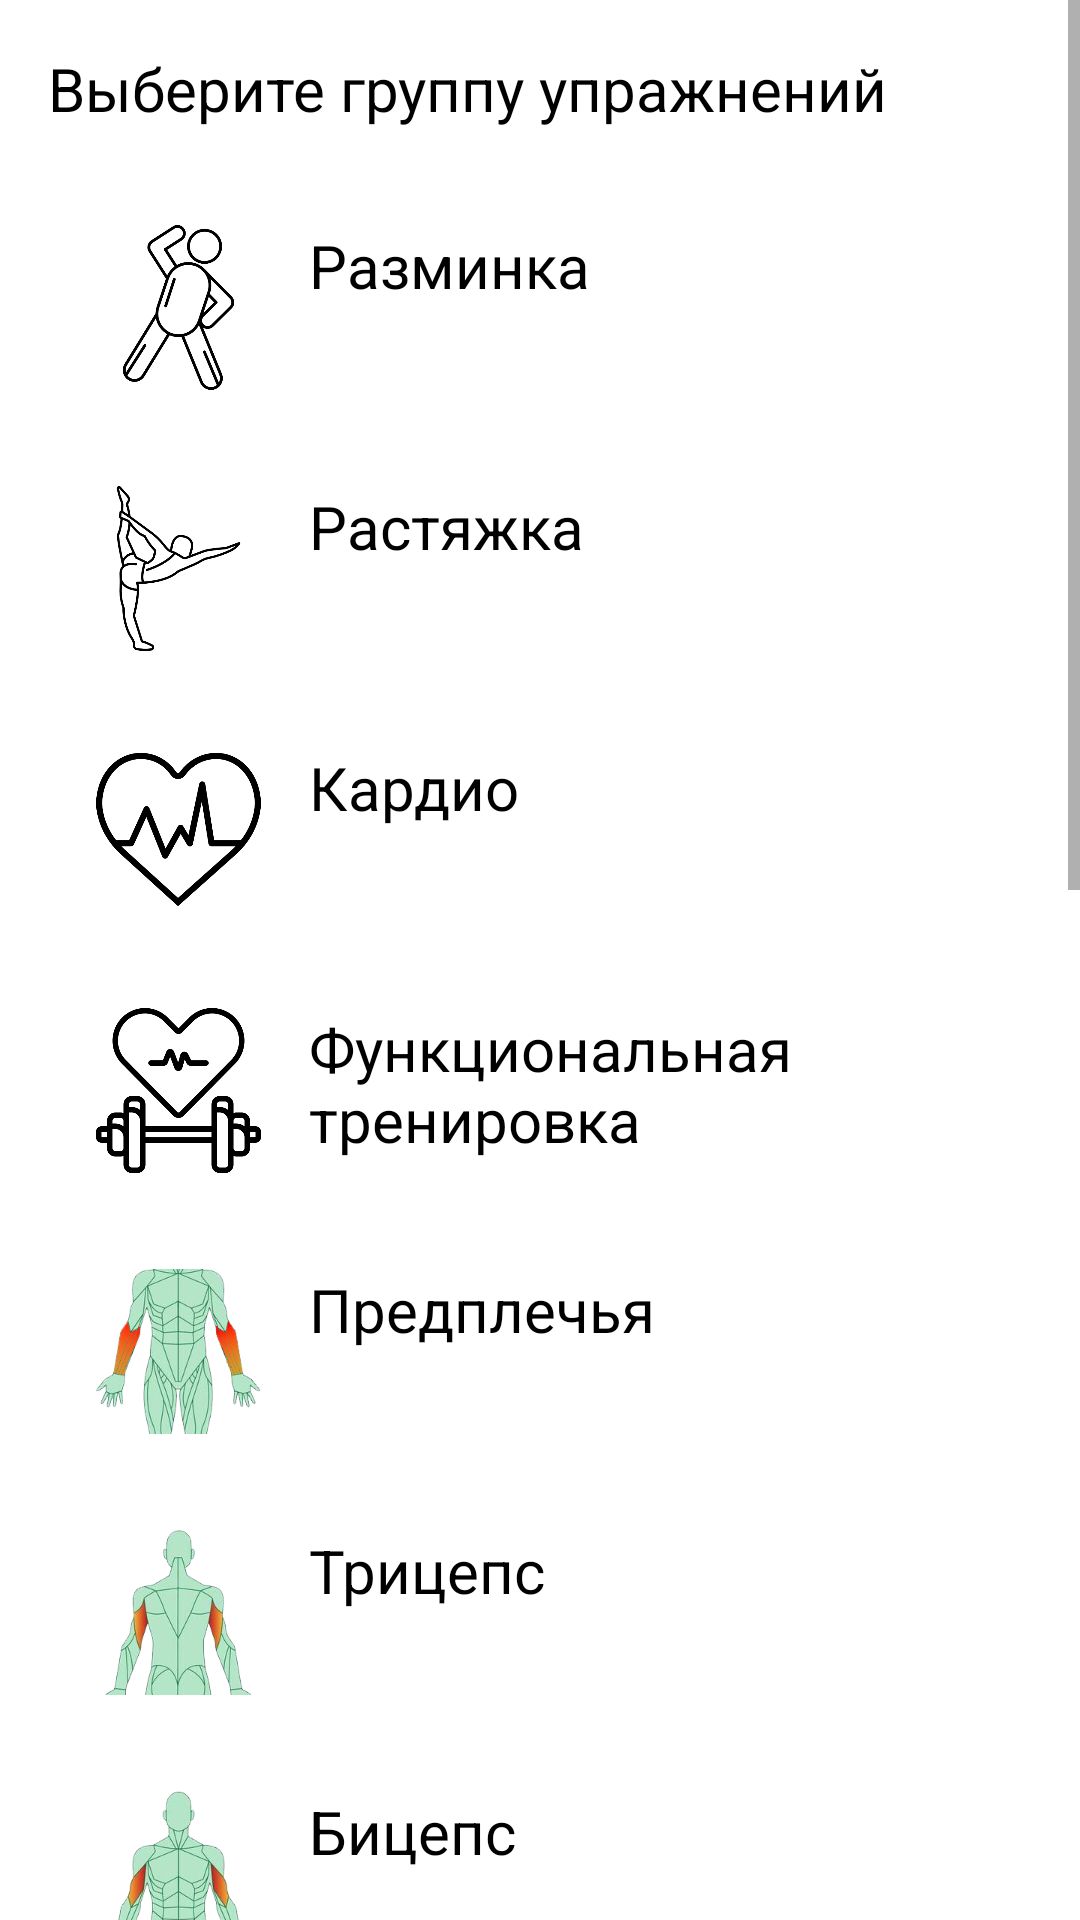

Point at icon controls on the screen. Image size 1080 × 1920, points as [x,y].
cardio: [178,829]
forearms: [178,1351]
functional: [178,1090]
stretching: [178,568]
triceps: [178,1612]
warmup: [178,307]
